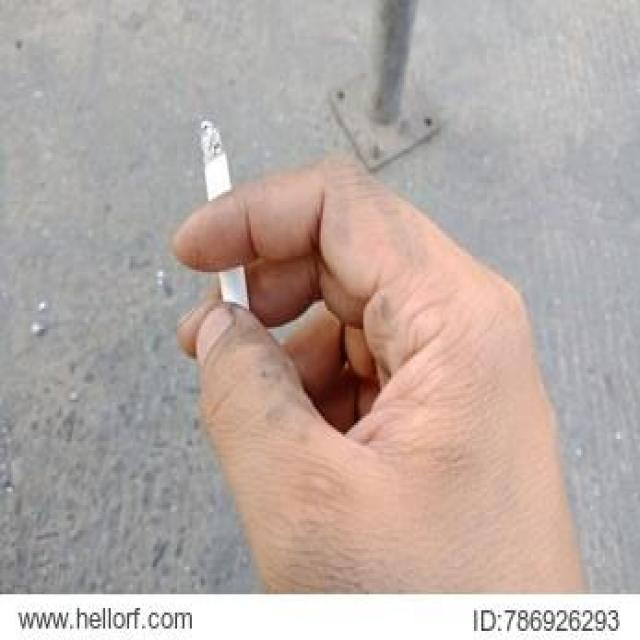Сигарета: (201, 121, 251, 313)
